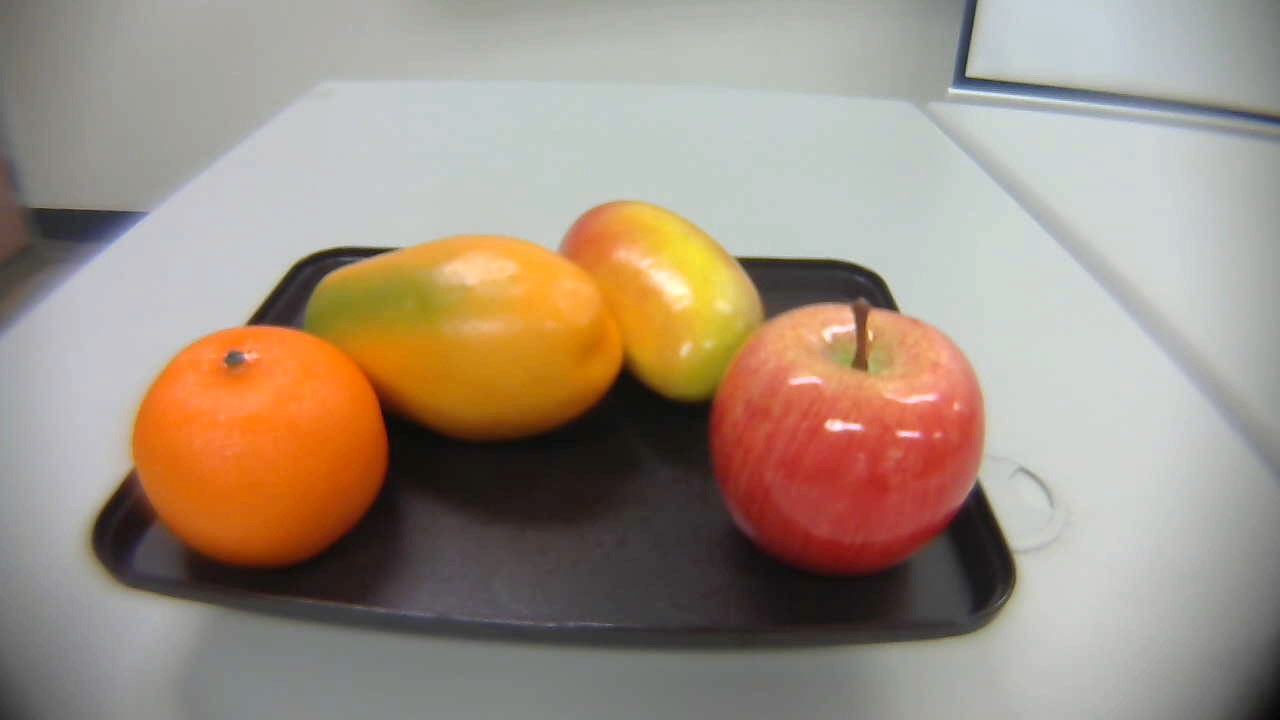orange: (128, 326, 402, 583)
papya: (303, 226, 642, 466)
red apple: (703, 289, 988, 588)
red mango: (535, 196, 773, 429)
